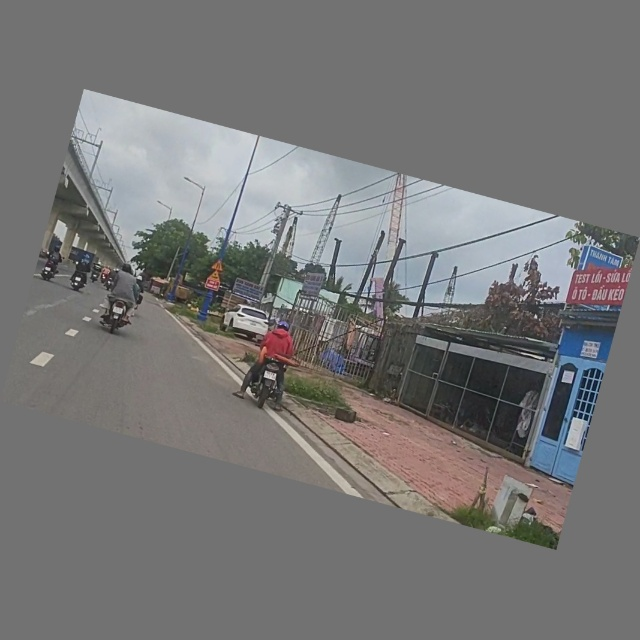W.203c: (211, 258, 227, 273)
W.245a: (207, 269, 224, 283)
